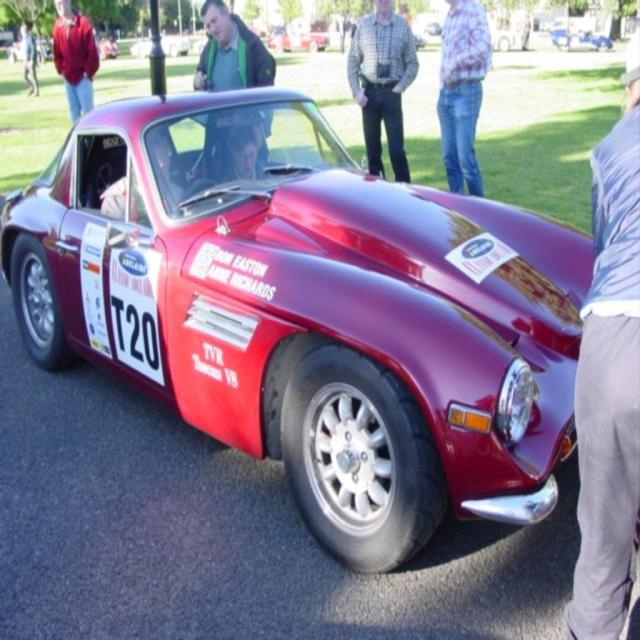car: (17, 72, 587, 569)
